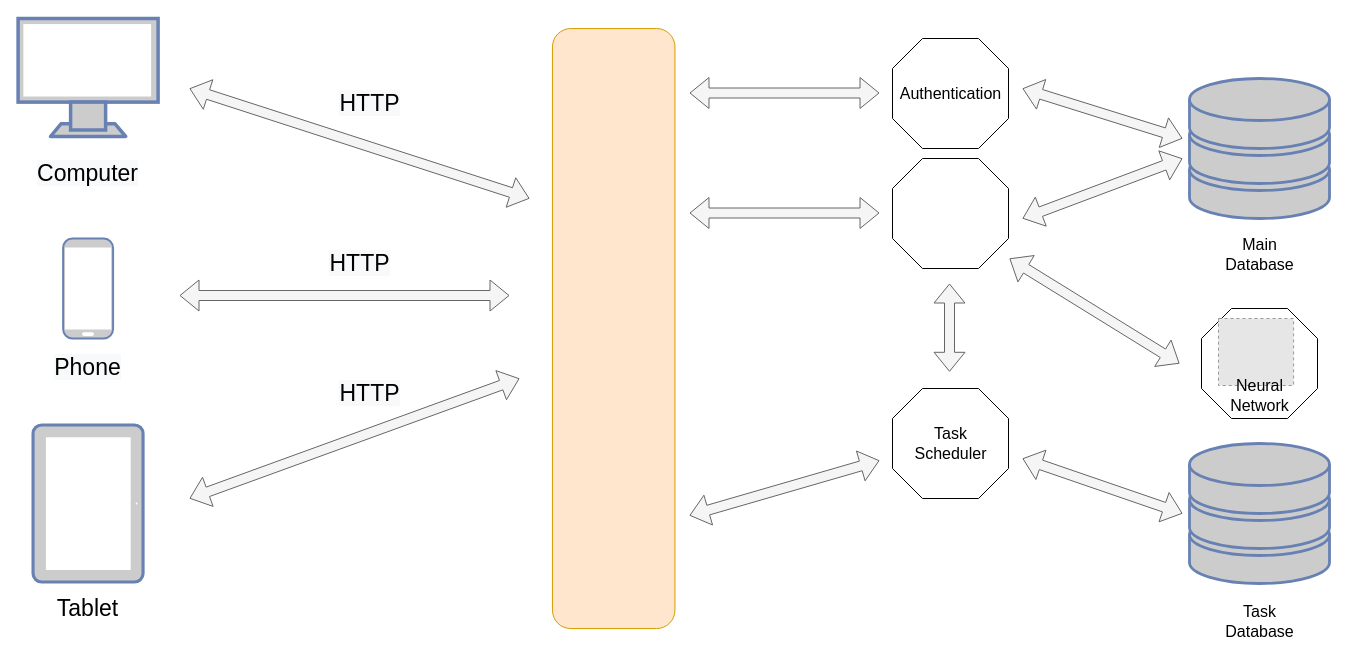
Some shapes in this 1348 by 661 pixel diagram are drawn without their labels. Grey dashed boxes stand in for pictures. Here are the shapes that lost their labels. From the top down, the box of each, then its label:
(892, 158, 1008, 268): Business Logic
(552, 28, 675, 628): API
